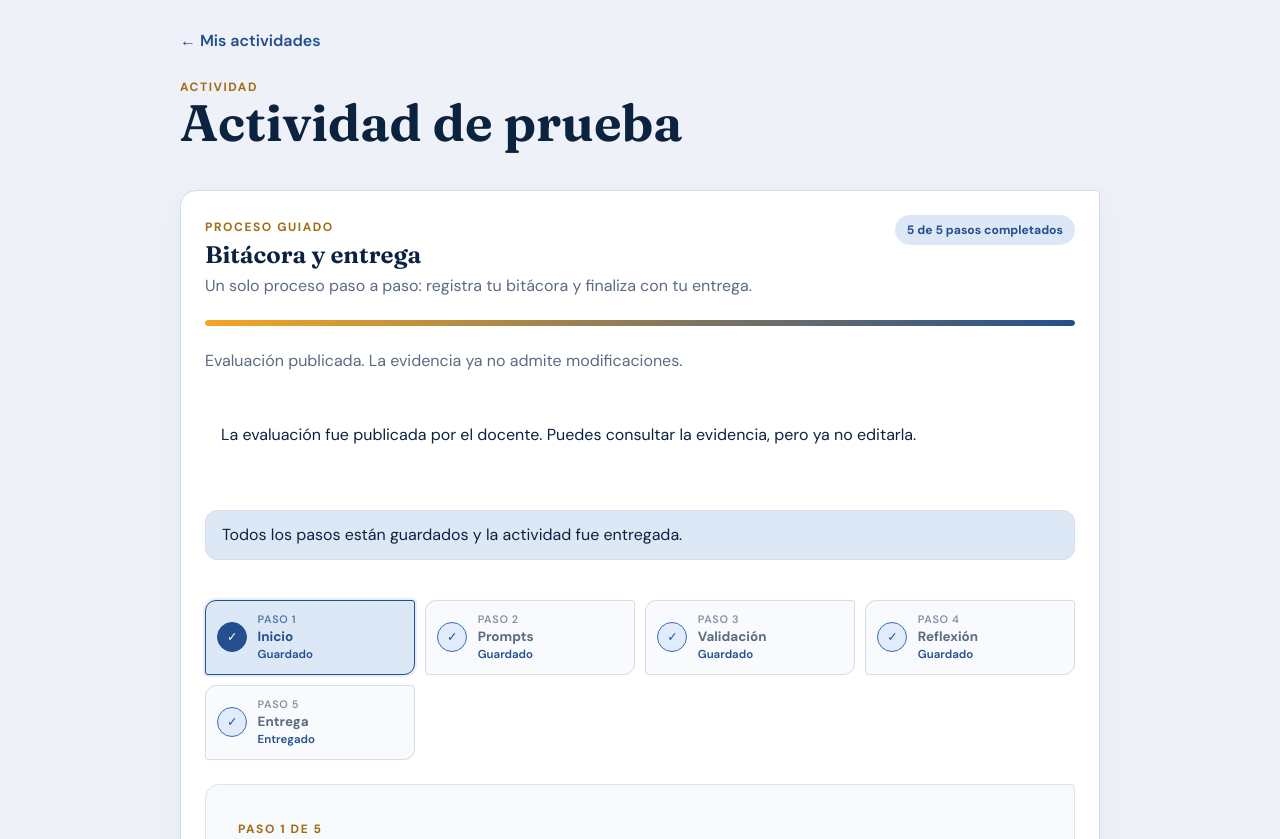
StudentActivityView - nivel declarado de IA › muestra una entrega evaluada en solo lectura y no intenta guardar cambios
Click the button with class "logbook-step-button" showing "✓ Paso 2 Prompts Guardado": coordinates (530, 637) [425, 600, 635, 675]
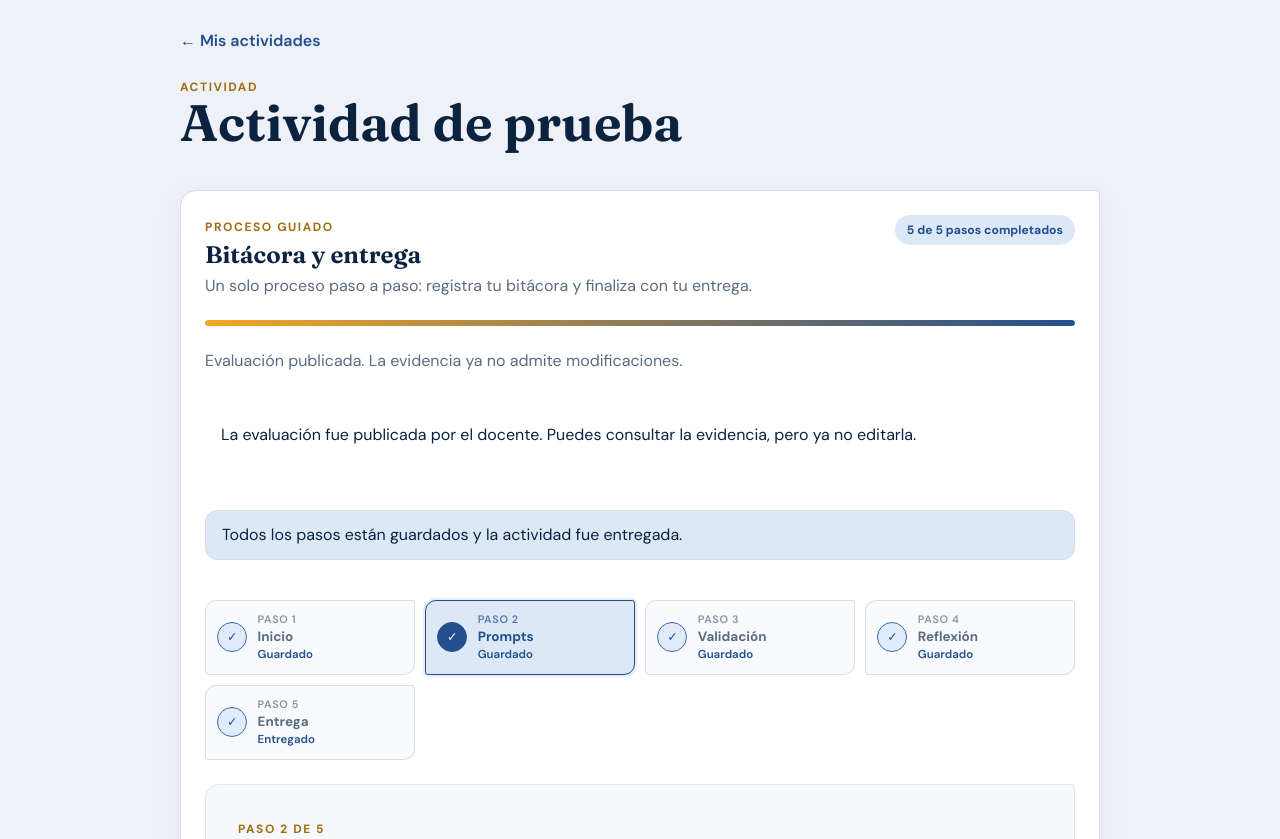
Click the button with class "submission-step-button": coordinates (310, 722) [205, 685, 415, 760]
(page scrolled)
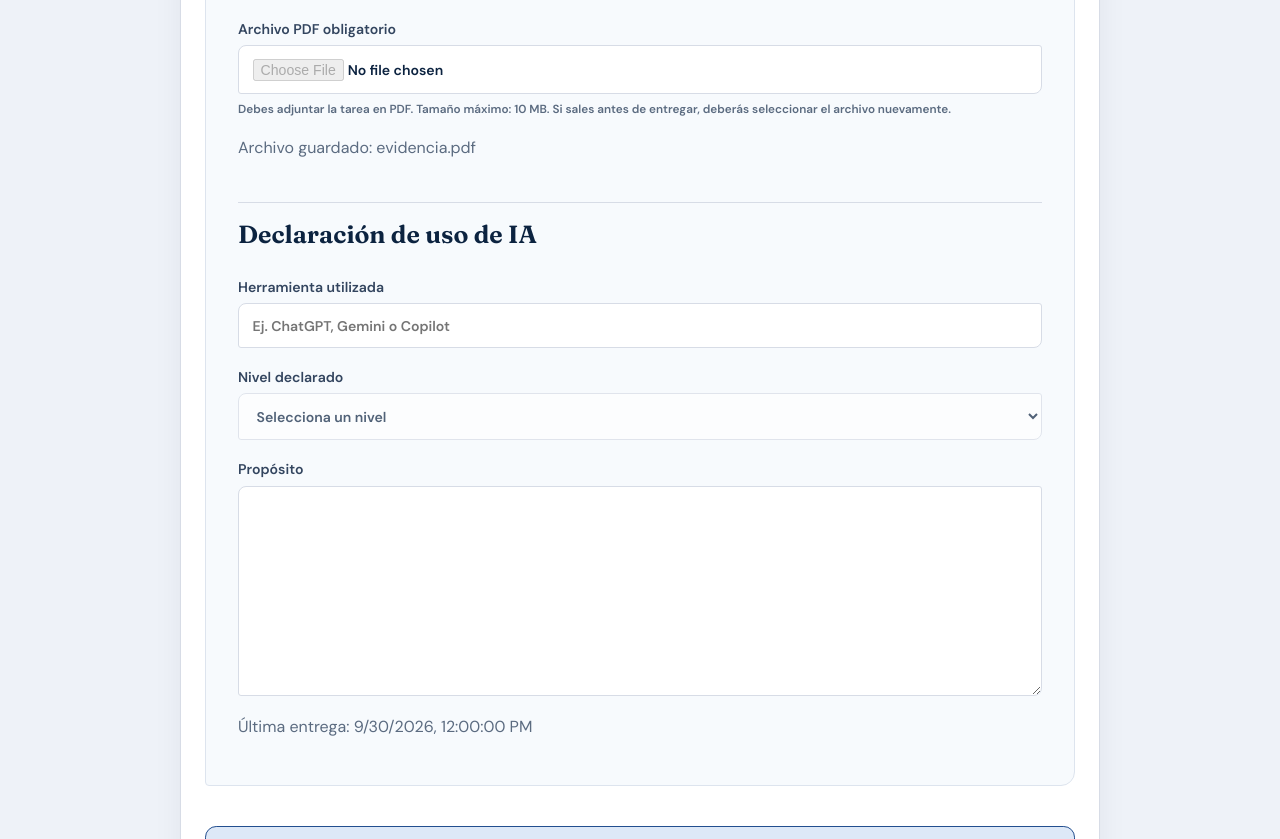
Now the file field is disabled, box [238, 45, 1042, 94]
Now the dropdown labelled "Nivel declarado" is disabled, box [238, 394, 1042, 440]
